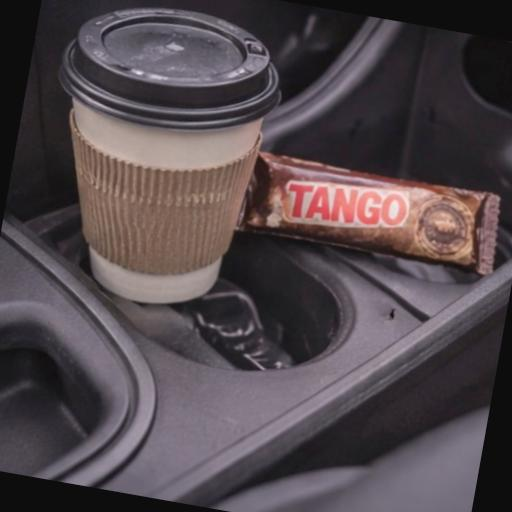tango: (203, 82, 512, 318)
